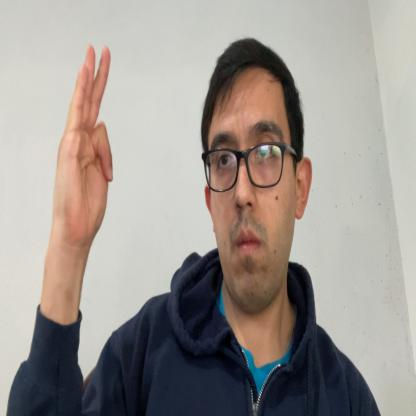F: (53, 43, 113, 246)
